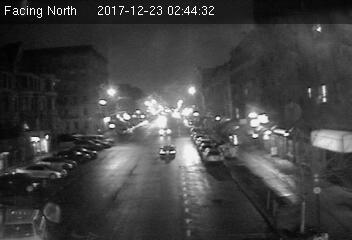car: (201, 147, 225, 163), (158, 145, 178, 159), (157, 126, 174, 137)
